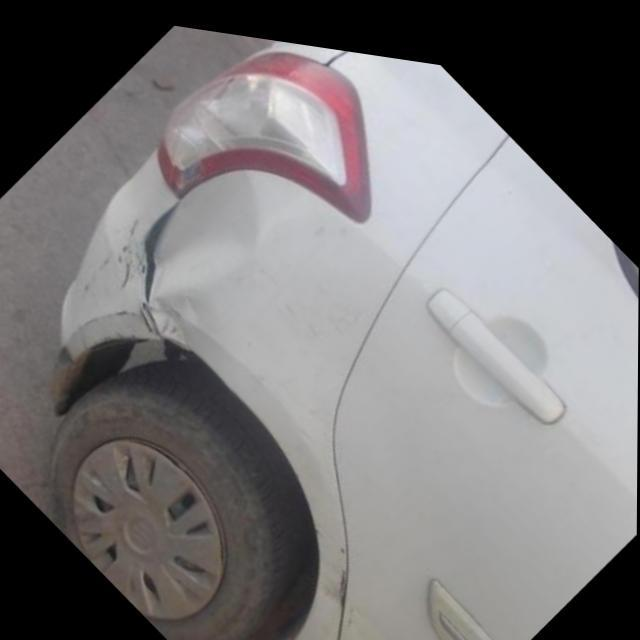dent: (146, 166, 257, 304), (311, 520, 351, 614)
dislocated part: (140, 191, 180, 306)
scratch: (68, 288, 165, 364), (115, 211, 145, 291), (79, 250, 110, 300)
